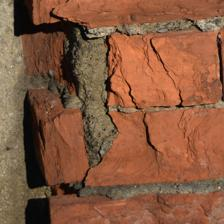Crack: (34, 14, 91, 157)
